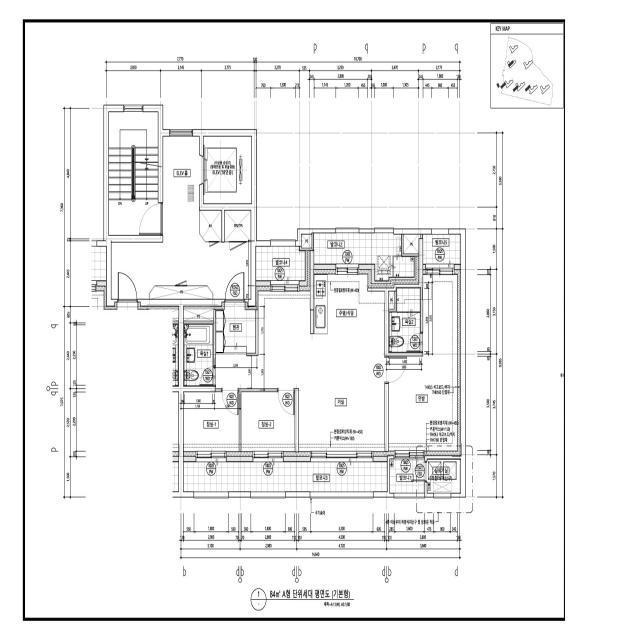space_balconi: (184, 462, 387, 492), (314, 233, 414, 281), (256, 246, 305, 280), (390, 459, 425, 493), (423, 235, 461, 264)
space_bedroom: (389, 270, 461, 456), (184, 392, 239, 456), (241, 392, 295, 456)
space_elevator: (204, 137, 252, 203)
space_elevator_hall: (111, 137, 251, 299)
space_front: (216, 302, 255, 353)
space_kitchen: (314, 270, 385, 334)
space_living_room: (216, 286, 385, 456)
space_other: (150, 286, 212, 299), (225, 211, 251, 241), (200, 211, 221, 241), (184, 306, 213, 321), (403, 235, 421, 254), (301, 235, 312, 248), (389, 291, 394, 309)
space_outdoor_room: (427, 460, 461, 493)
space_staircase: (109, 112, 158, 235)
space_toilet: (389, 288, 420, 353), (184, 324, 213, 386)
